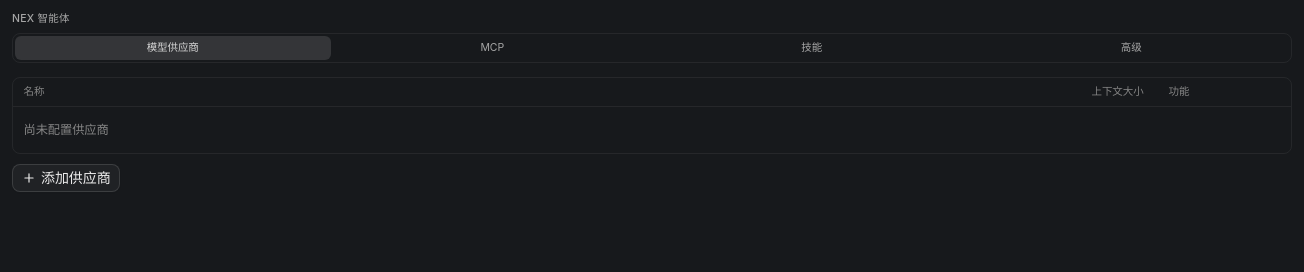
NexAgentSection MCP and skills › toggles MCP with a switch and deletes with the icon button
The image size is (1304, 272).
Click the button "MCP" at (492, 48), box top-left (334, 36), bottom-right (650, 60)
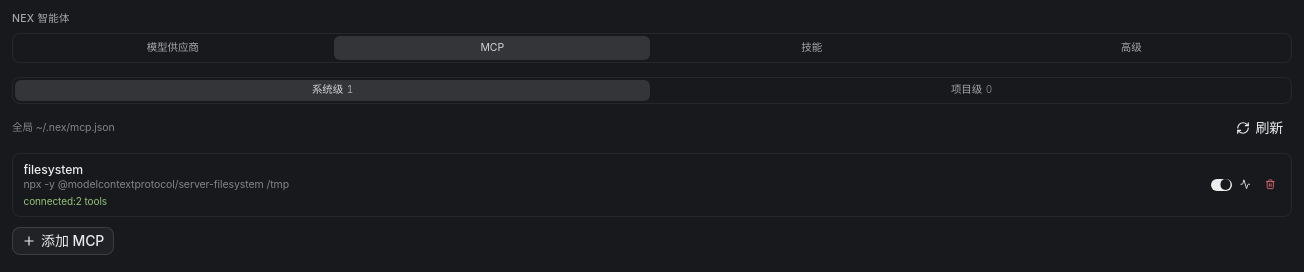
Result: the text "filesystem" is shown at top-left (24, 162), bottom-right (83, 176)
Click the switch named "启用 filesystem" at (1221, 185), box top-left (1210, 178), bottom-right (1232, 191)
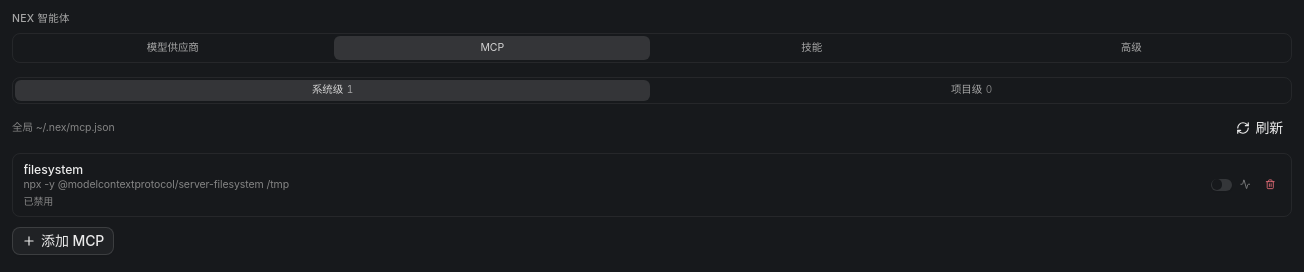
Result: the text "已禁用" is shown at top-left (24, 195), bottom-right (53, 207)
Click the button named "删除 filesystem" at (1270, 185), box top-left (1260, 174), bottom-right (1280, 195)
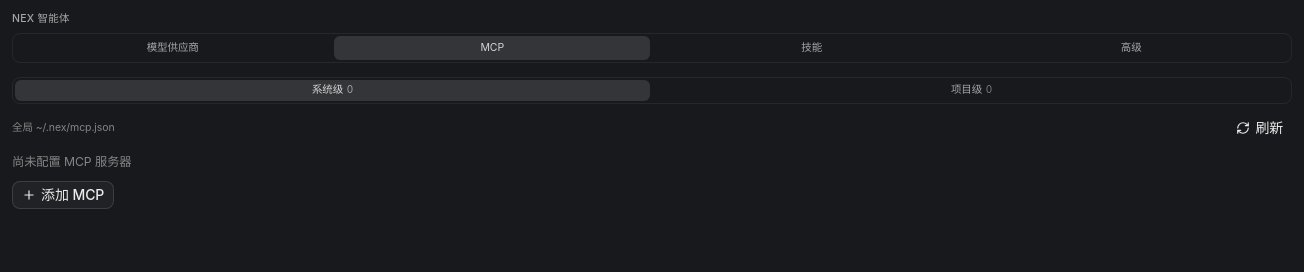
Result: the text "尚未配置 MCP 服务器" is shown at top-left (12, 154), bottom-right (132, 168)
